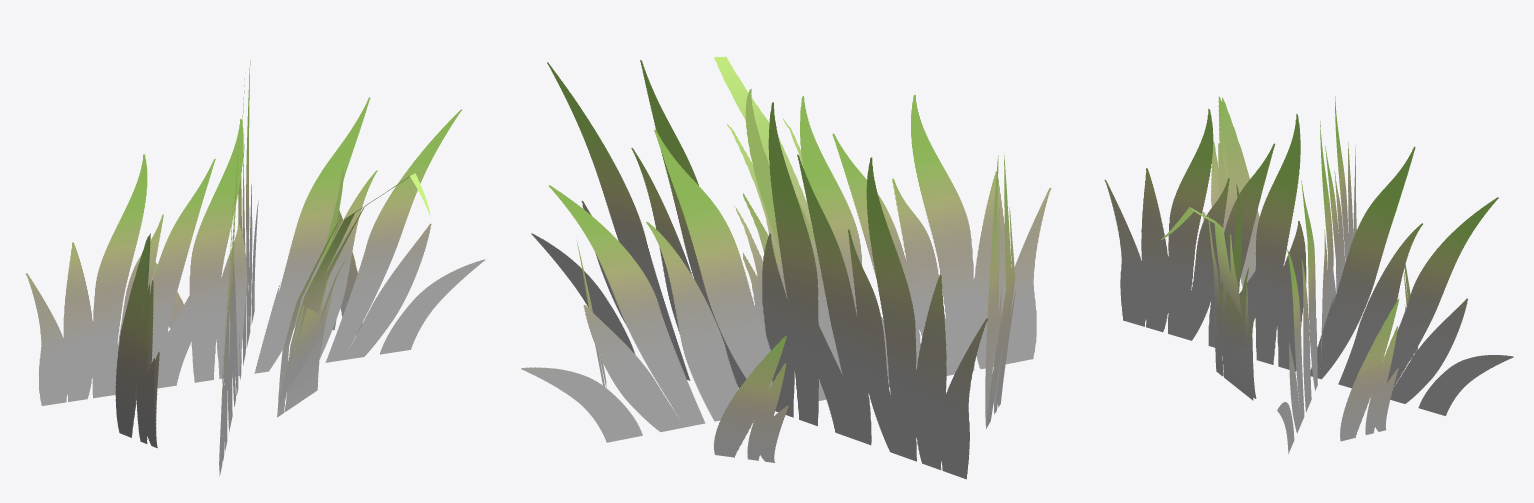
The model's file is grass2.glb.
The picture shows the model from 3 angles, left to right: view 1: azimuth 30°, elevation 25°; view 2: azimuth 150°, elevation 25°; view 3: azimuth 270°, elevation 25°; orthographic projection. The views are drawn at different scales.
Visible parts, largest first — view 1: grass; view 2: grass; view 3: grass.
Boxes of the visible parts, x1,y1,x2,y2 form: grass: [25, 60, 485, 475]; grass: [521, 56, 1051, 479]; grass: [1104, 96, 1513, 453].
Size of the model in its own units: 0.6781 by 0.4057 by 0.5764.
Materials: 1 (1 with a texture image).
